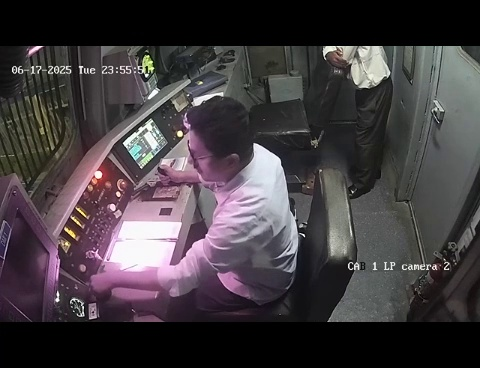horn_active: (76, 260, 134, 310)
